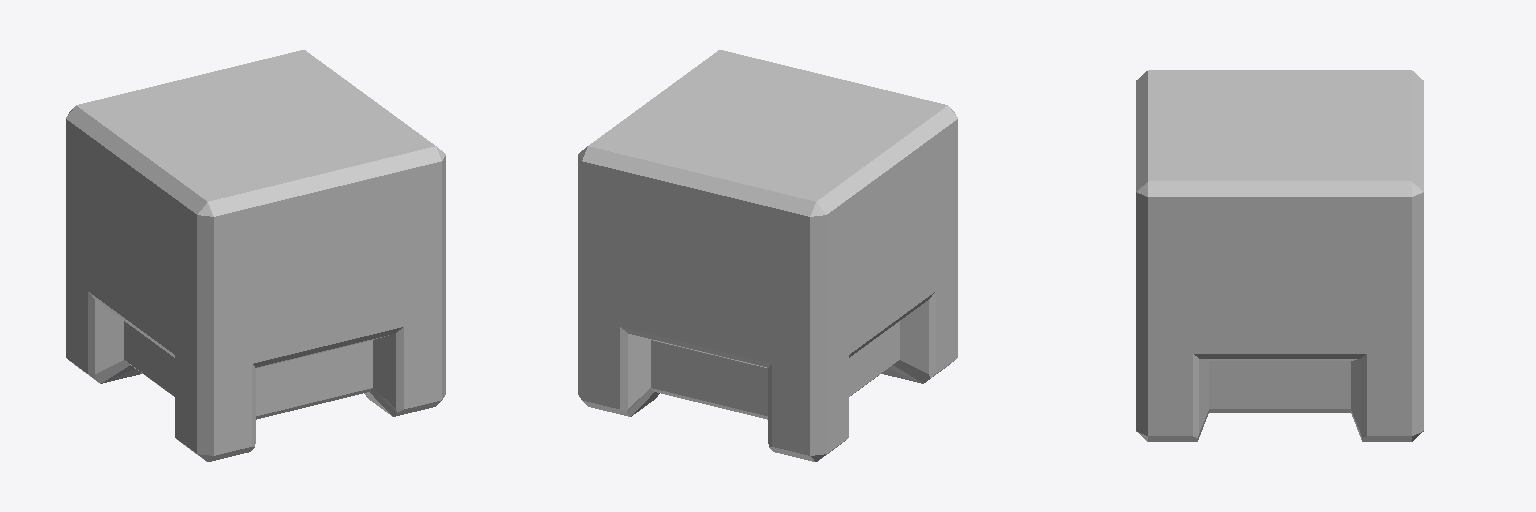
File: Platform.obj
The picture shows the model from 3 angles: view 1: azimuth 30°, elevation 25°; view 2: azimuth 150°, elevation 25°; view 3: azimuth 270°, elevation 25°; orthographic projection.
Visible parts, largest first — view 1: Cube.002; view 2: Cube.002; view 3: Cube.002.
Part boxes in pixels (x1,y1,x2,y2): Cube.002: (66,50,445,461); Cube.002: (578,50,957,461); Cube.002: (1136,70,1423,441).
Bounding box in the file's own units: 0.9981 × 0.9981 × 0.9981.